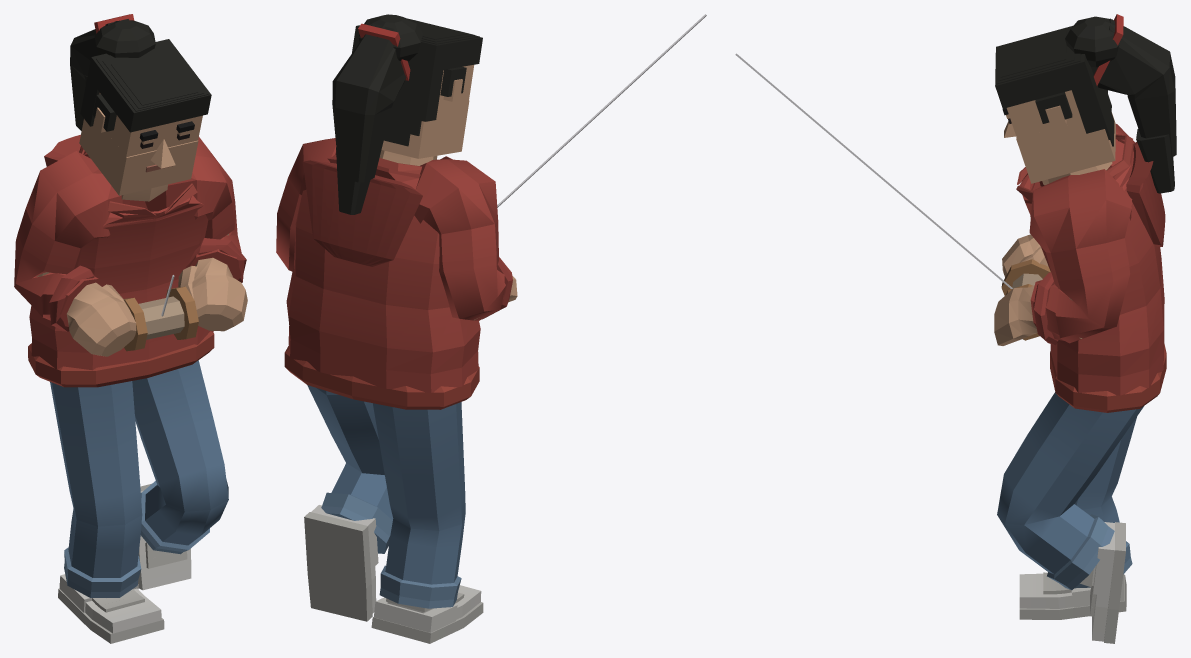
The model's file is kite-kid-0a7d70__walk6.glb.
3 renders of one model, left to right at view 1: azimuth 30°, elevation 25°; view 2: azimuth 150°, elevation 25°; view 3: azimuth 270°, elevation 25°, orthographic. The views are drawn at different scales.
Visible parts, largest first — view 1: kite-kid-0a7d70__walk6; view 2: kite-kid-0a7d70__walk6; view 3: kite-kid-0a7d70__walk6.
Boxes of the visible parts, x1,y1,x2,y2 form: kite-kid-0a7d70__walk6: (14, 14, 247, 643); kite-kid-0a7d70__walk6: (276, 14, 706, 643); kite-kid-0a7d70__walk6: (735, 14, 1176, 643).
Bounding box in the file's own units: 0.5159 × 1.21 × 0.81.
